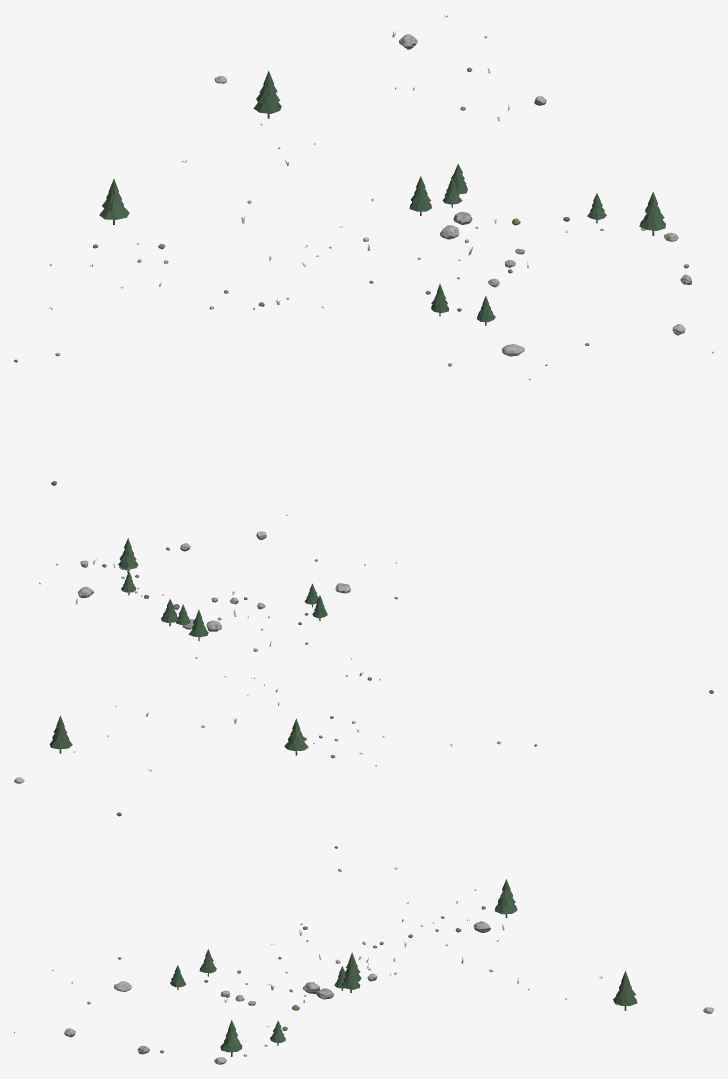
The model's file is coast_land_scatter_c09_18.glb.
3 renders of one model, top to bottom at view 1: azimuth 30°, elevation 25°; view 2: azimuth 150°, elevation 25°; view 3: azimuth 270°, elevation 25°, orthographic. The views are drawn at different scales.
Visible parts, largest first — view 1: coast_land_scatter_c09_18; view 2: coast_land_scatter_c09_18; view 3: coast_land_scatter_c09_18.
Part boxes in pixels (x1,y1,x2,y2): coast_land_scatter_c09_18: (14, 15, 713, 485); coast_land_scatter_c09_18: (14, 514, 713, 783); coast_land_scatter_c09_18: (14, 812, 713, 1064).
Size of the model in its own units: 238 by 52.93 by 251.
